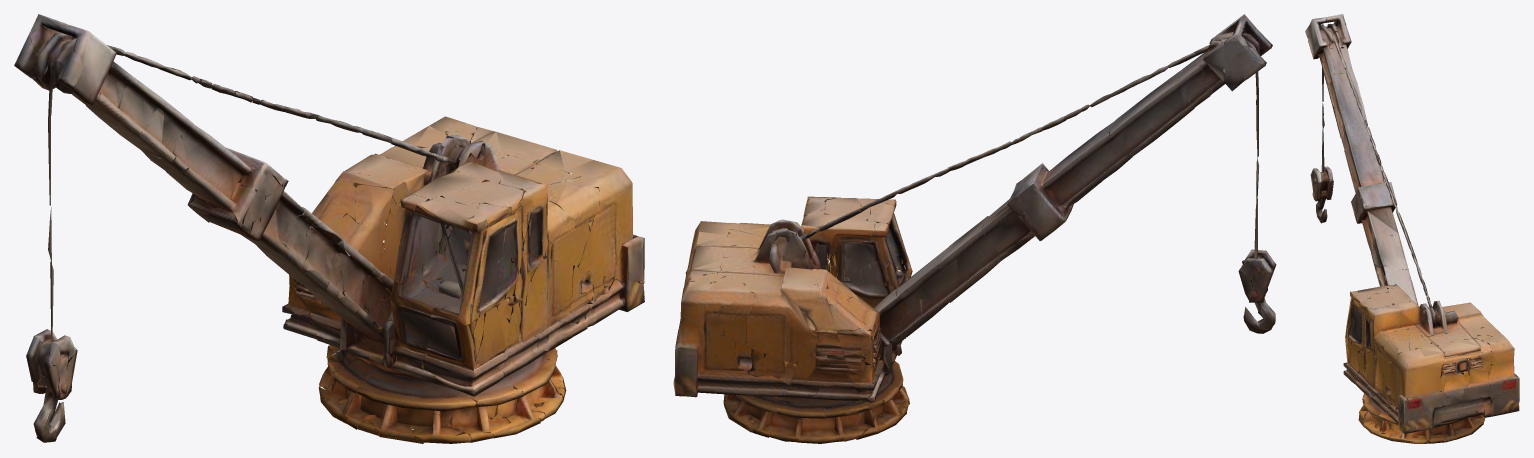
Rendered from mars_mining_crane.glb.
3 views of the same model, side by side, from view 1: azimuth 30°, elevation 25°; view 2: azimuth 150°, elevation 25°; view 3: azimuth 270°, elevation 25° (orthographic). The views are drawn at different scales.
Parts seen in each view (by area): view 1: mars_mining_crane; view 2: mars_mining_crane; view 3: mars_mining_crane.
Boxes of the visible parts, x1,y1,x2,y2 form: mars_mining_crane: (14, 14, 644, 443); mars_mining_crane: (673, 14, 1276, 443); mars_mining_crane: (1305, 14, 1519, 443).
Size of the model in its own units: 21.97 by 16.64 by 11.42.
1 material, 1 textured.
